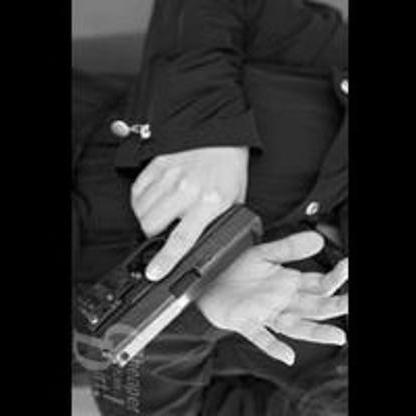weapon: (75, 203, 260, 376)
